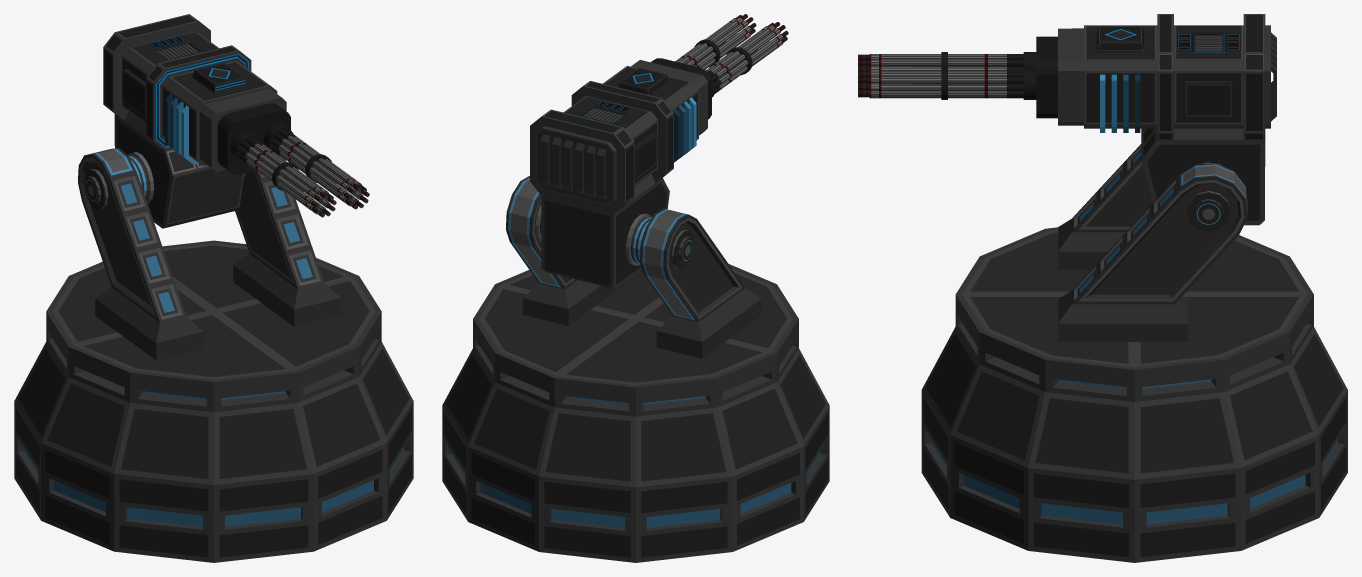
File: MGT.FBX
3 renders of one model, left to right at view 1: azimuth 30°, elevation 25°; view 2: azimuth 150°, elevation 25°; view 3: azimuth 270°, elevation 25°, orthographic. The views are drawn at different scales.
Parts seen in each view (by area): view 1: PTMG003, MGT, NTMG003; view 2: PTMG003, MGT, NTMG003; view 3: PTMG003, MGT, NTMG003.
Boxes of the visible parts, left/top/right/bottom form: PTMG003: left=14, top=240, right=413, bottom=562; MGT: left=103, top=14, right=369, bottom=228; NTMG003: left=78, top=148, right=341, bottom=360; PTMG003: left=442, top=264, right=829, bottom=562; MGT: left=530, top=14, right=788, bottom=288; NTMG003: left=506, top=176, right=761, bottom=358; PTMG003: left=921, top=227, right=1347, bottom=562; MGT: left=858, top=14, right=1276, bottom=225; NTMG003: left=1058, top=144, right=1247, bottom=341.
Bounding box in the file's own units: 782 × 888 × 898.
